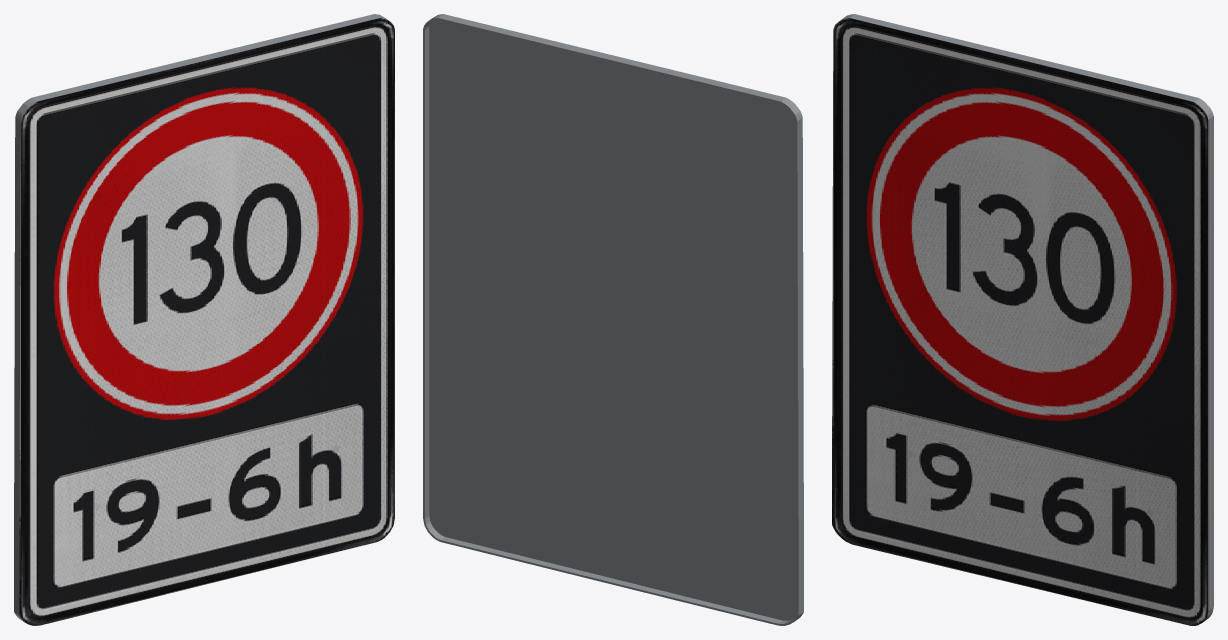
3 views of the same model, side by side, from view 1: azimuth 30°, elevation 25°; view 2: azimuth 150°, elevation 25°; view 3: azimuth 330°, elevation 25° (orthographic).
Visible parts, largest first — view 1: cat_c42932cbbe69e3ea; view 2: cat_c42932cbbe69e3ea; view 3: cat_c42932cbbe69e3ea.
Boxes of the visible parts, bbox=[...] form: cat_c42932cbbe69e3ea: bbox=[14, 14, 394, 625]; cat_c42932cbbe69e3ea: bbox=[423, 14, 803, 625]; cat_c42932cbbe69e3ea: bbox=[832, 14, 1213, 625].
Size of the model in its own units: 0.6 by 0.015 by 0.8012.
2 materials, 1 textured.
